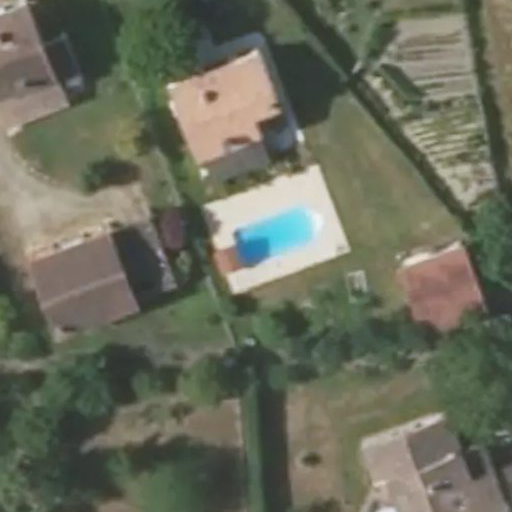pool: (209, 236, 307, 244)
